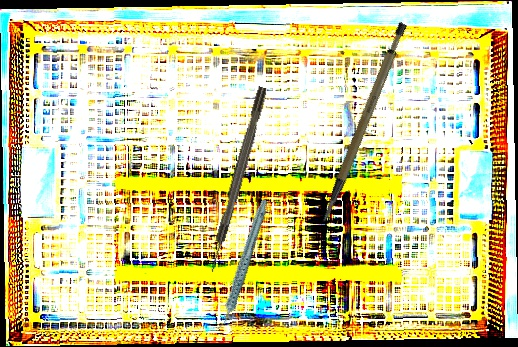Handpiece: (190, 197, 293, 332)
Hook Surgical: (205, 86, 270, 273)
Scalpel Handle: (291, 20, 433, 224)
